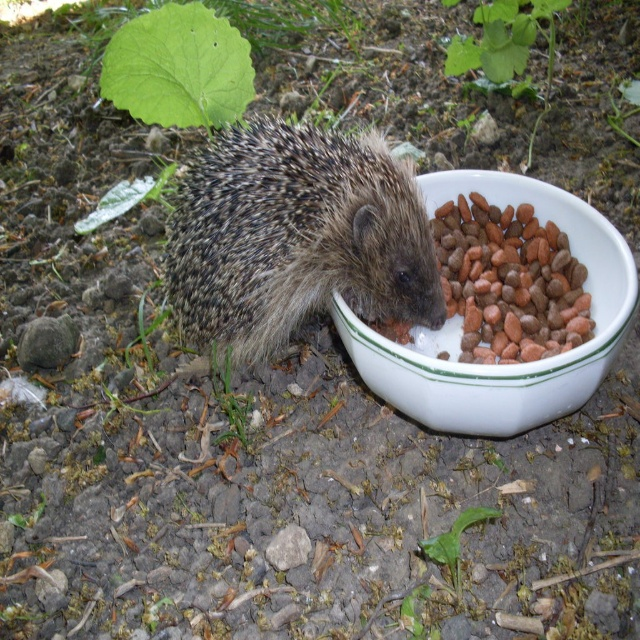Hedgehog: (163, 108, 445, 372)
